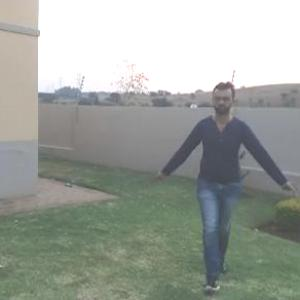land: (150, 61, 299, 299)
